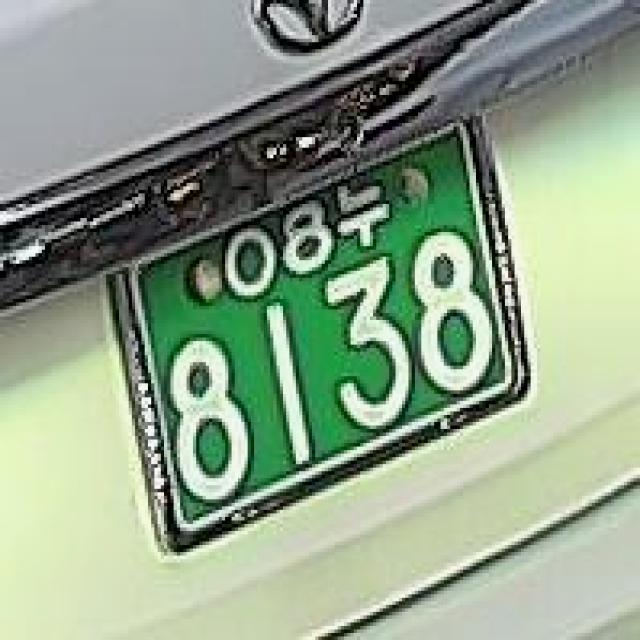illegal_plate: (110, 118, 534, 563)
